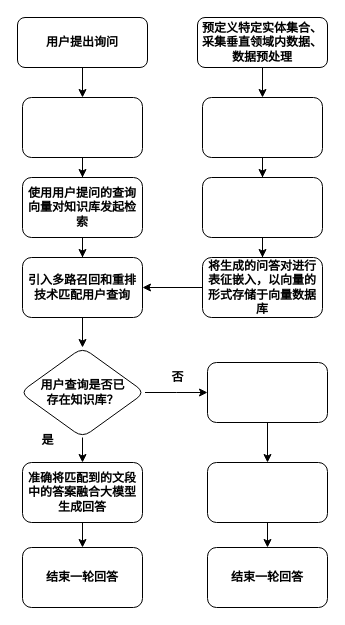
The diagram is 345 pixels wide and 625 high, and some of its shapes have lost their labels. The centre of each missing label's shape, as x and y in pixels:
"借助 LLM的文本理解能力进行答案推理，生成可靠答案" goes at [267,492].
"基于LLM大模型指令和提示模板进行问答对生成" goes at [262,207].
"将Top-K结果与知识库相关文档融合，有机整合上下文信息" goes at [267,392].
"将生成的专业领域文件进行语料抽取和语料划分" goes at [262,127].
"将用户查询用知识向量数据库构建相同的embedding技术编码成Query Embedding" goes at [82,127].
